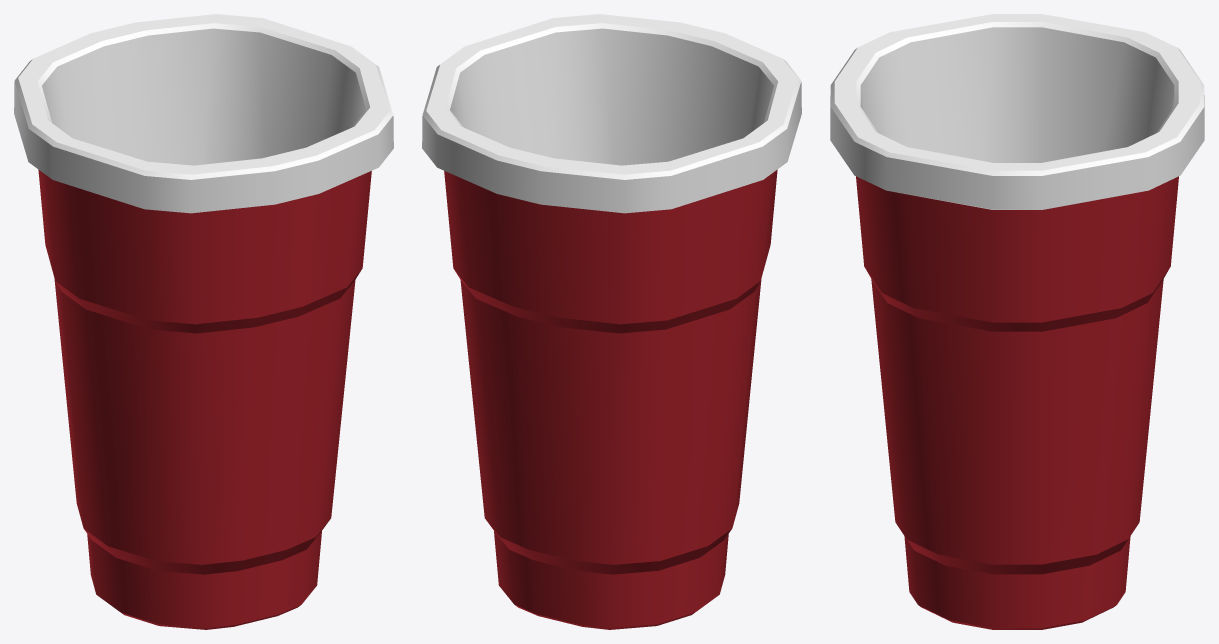
File: Cup2.FBX
3 renders of one model, left to right at view 1: azimuth 30°, elevation 25°; view 2: azimuth 150°, elevation 25°; view 3: azimuth 270°, elevation 25°, orthographic.
Parts seen in each view (by area): view 1: Cup_02; view 2: Cup_02; view 3: Cup_02.
Part boxes in pixels (<box>): Cup_02: <box>14,14,393,629</box>; Cup_02: <box>422,14,801,629</box>; Cup_02: <box>830,14,1204,629</box>.
Bounding box in the file's own units: 14.29 × 20.44 × 14.09.
